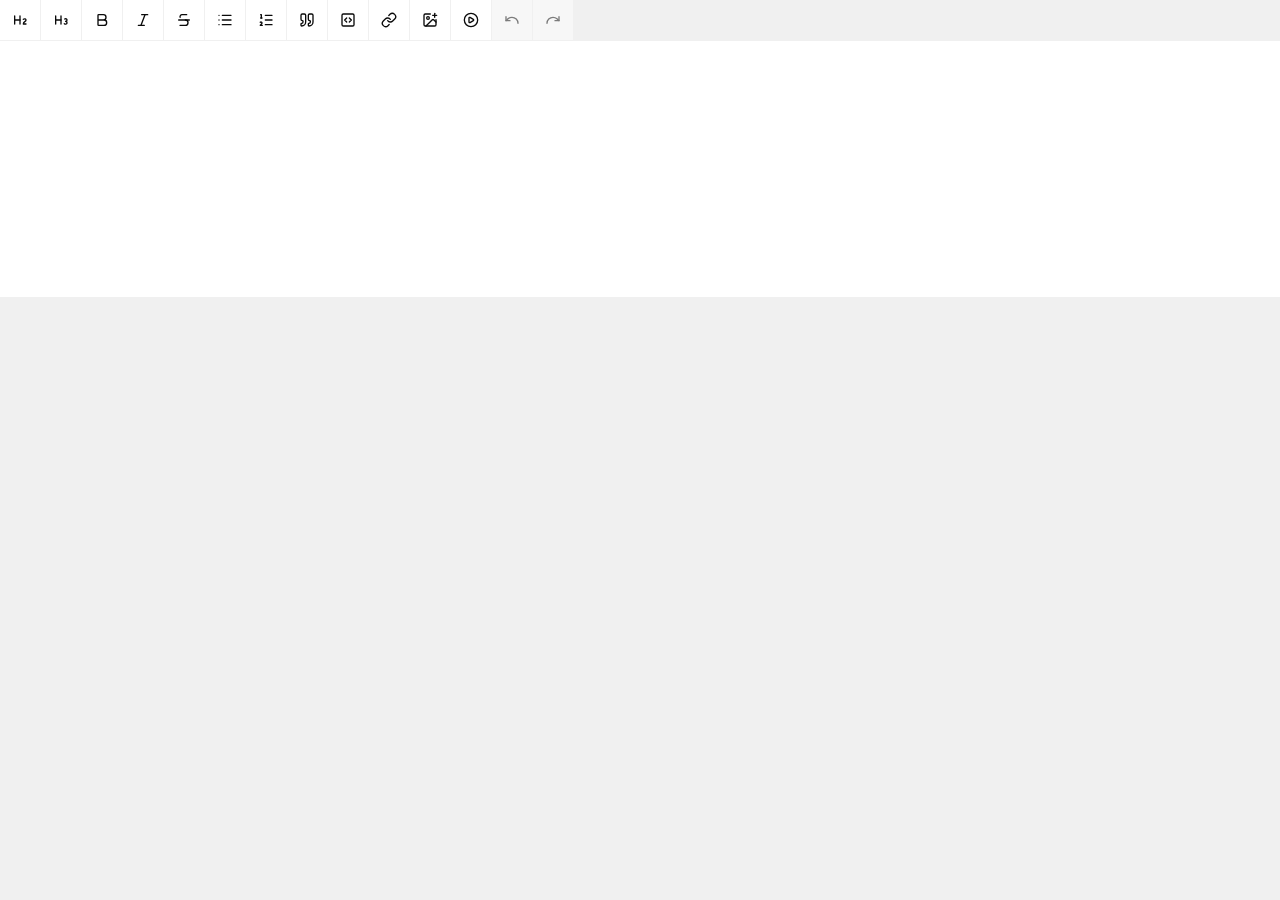
it: RichEditor › 링크 다이얼로그는 대문자 스킴 주소를 받아들인다
Click the button named "링크" at [389, 20], box [369,0,409,40]
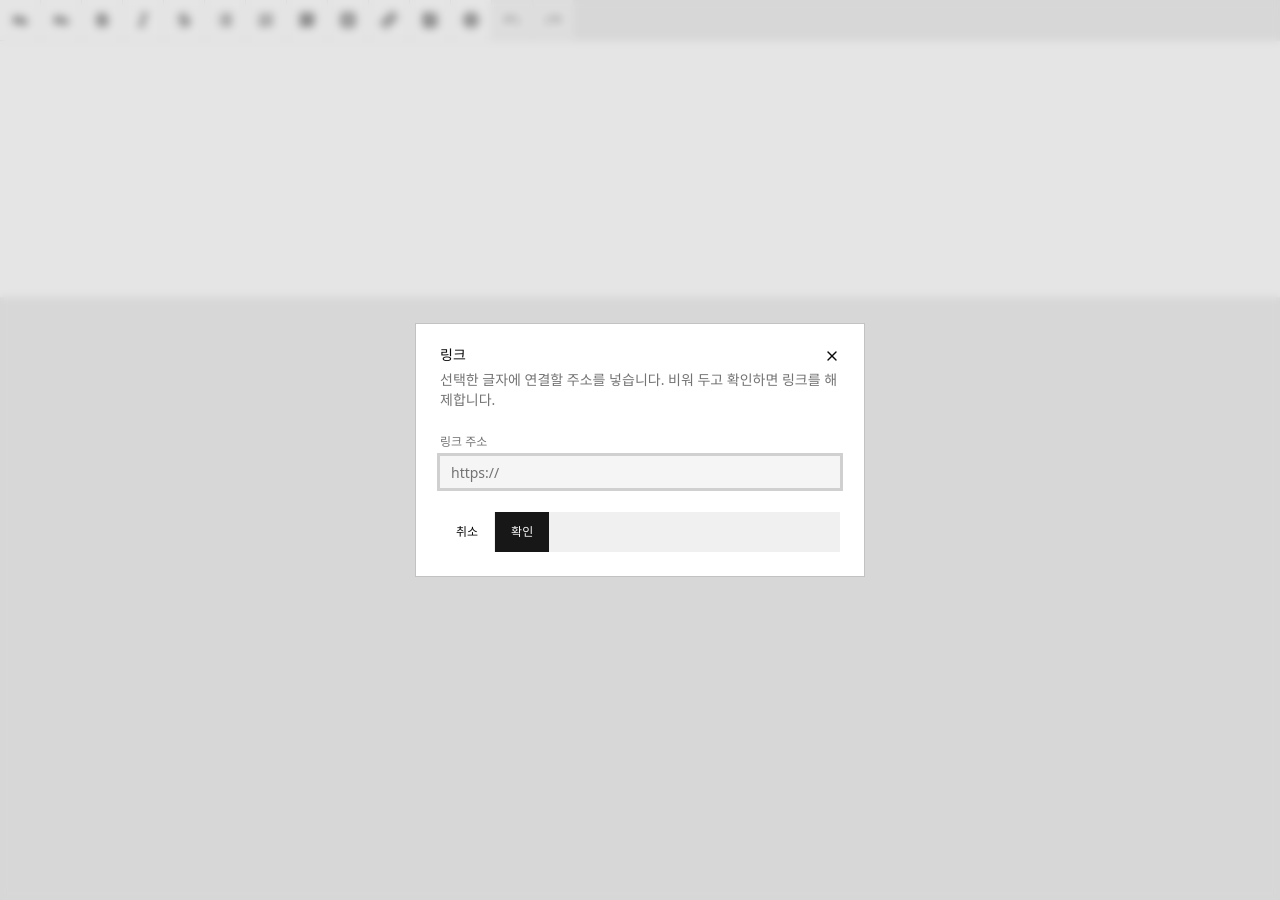
Type "HTTPS://example.com" into the field labelled "링크 주소" at [640, 472], box [440,456,840,488]
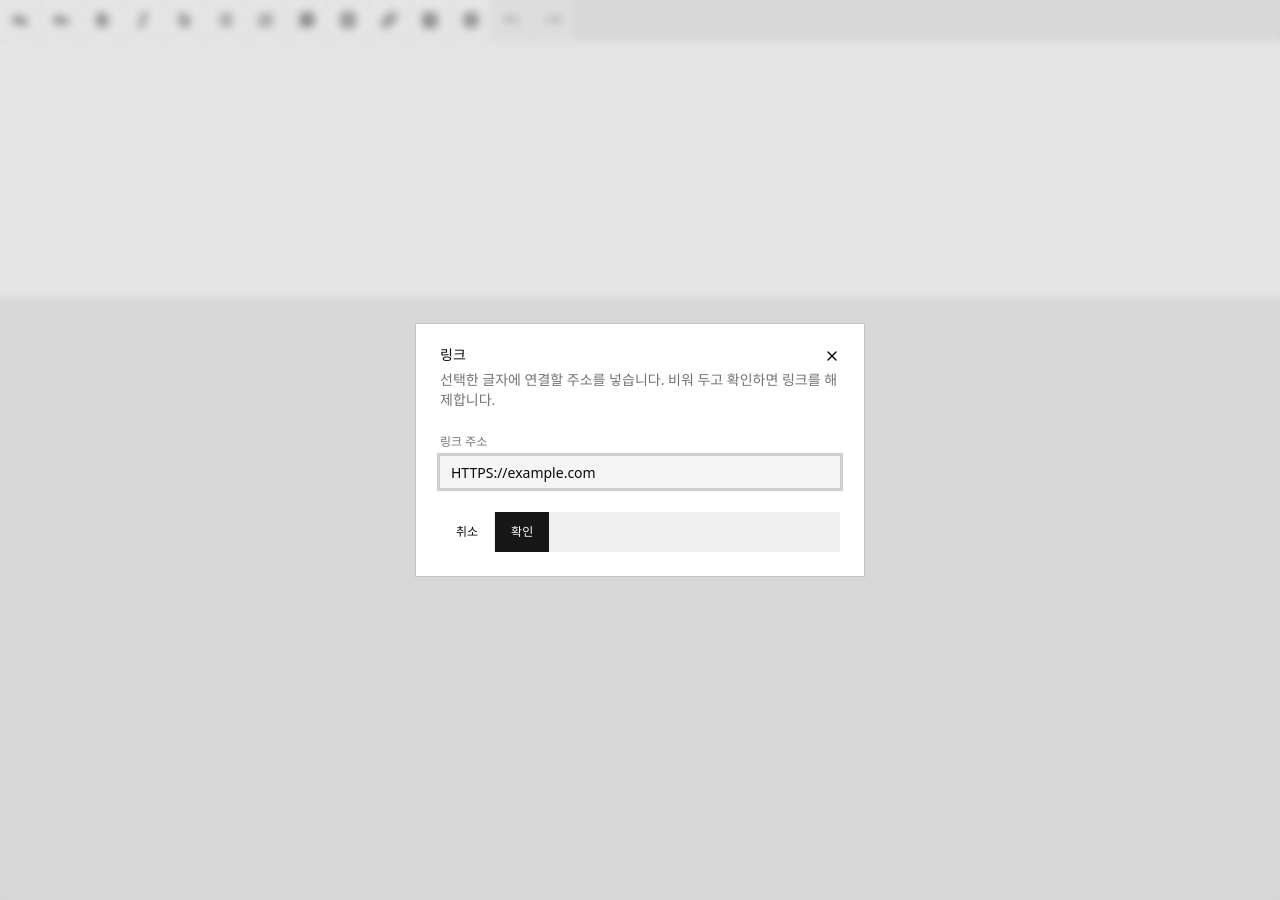
Click the button "확인" at [522, 532], box [495,512,549,552]
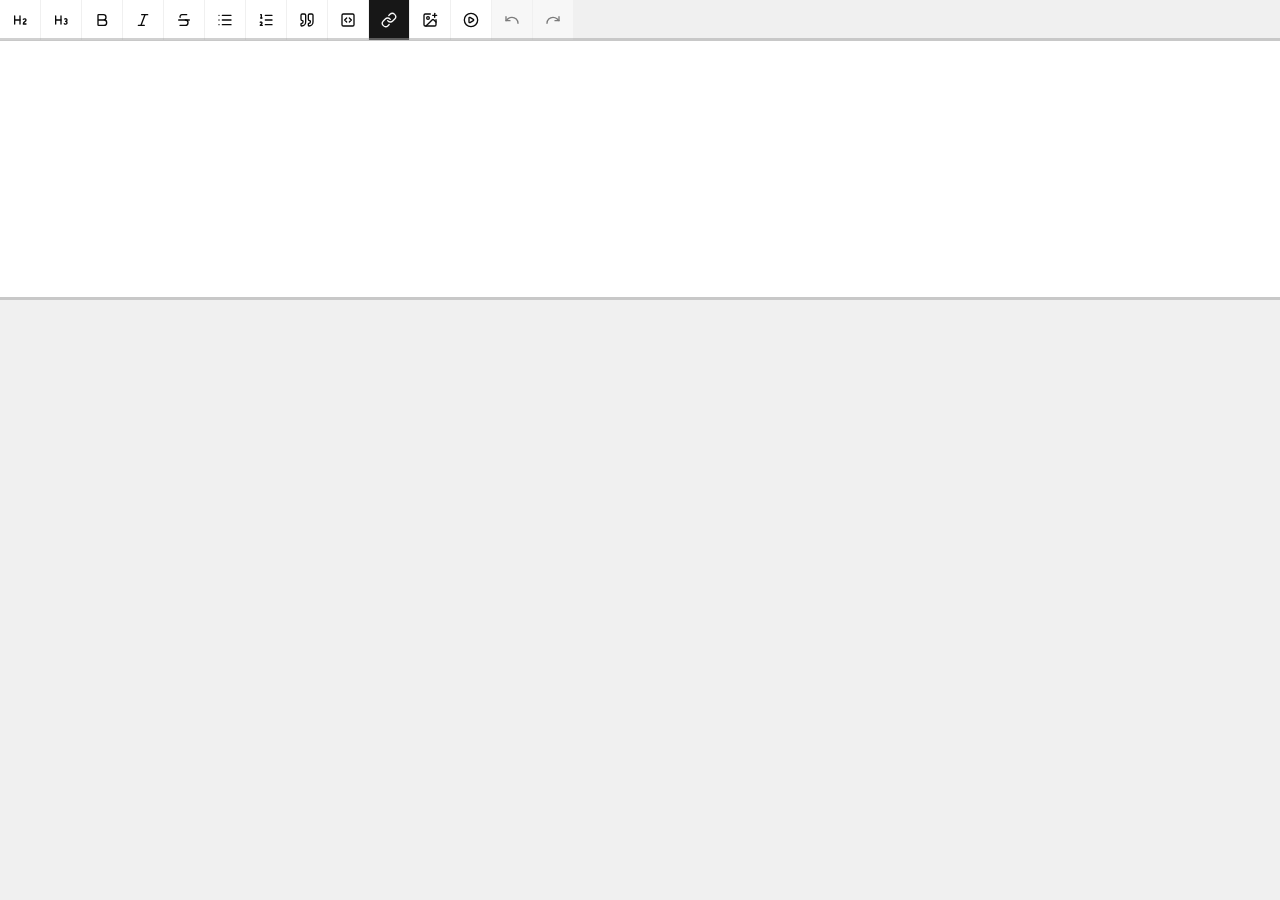
Now the label labelled "링크 주소" is gone
